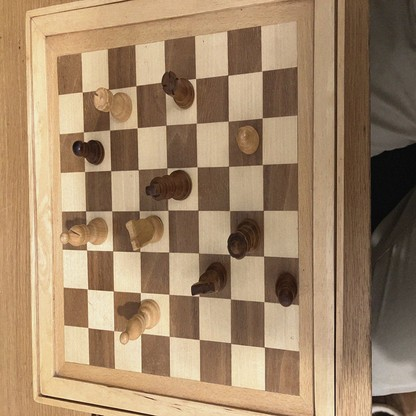bishop_white: (119, 300, 160, 343), (60, 218, 108, 244)
king_black: (147, 173, 194, 200)
knight_black: (191, 262, 227, 294)
knight_white: (126, 217, 164, 249)
pawn_black: (275, 273, 298, 307), (73, 140, 103, 164)
pawn_white: (238, 125, 259, 154)
queen_black: (229, 219, 260, 259)
rock_black: (162, 72, 194, 109)
rock_white: (94, 88, 132, 122)
